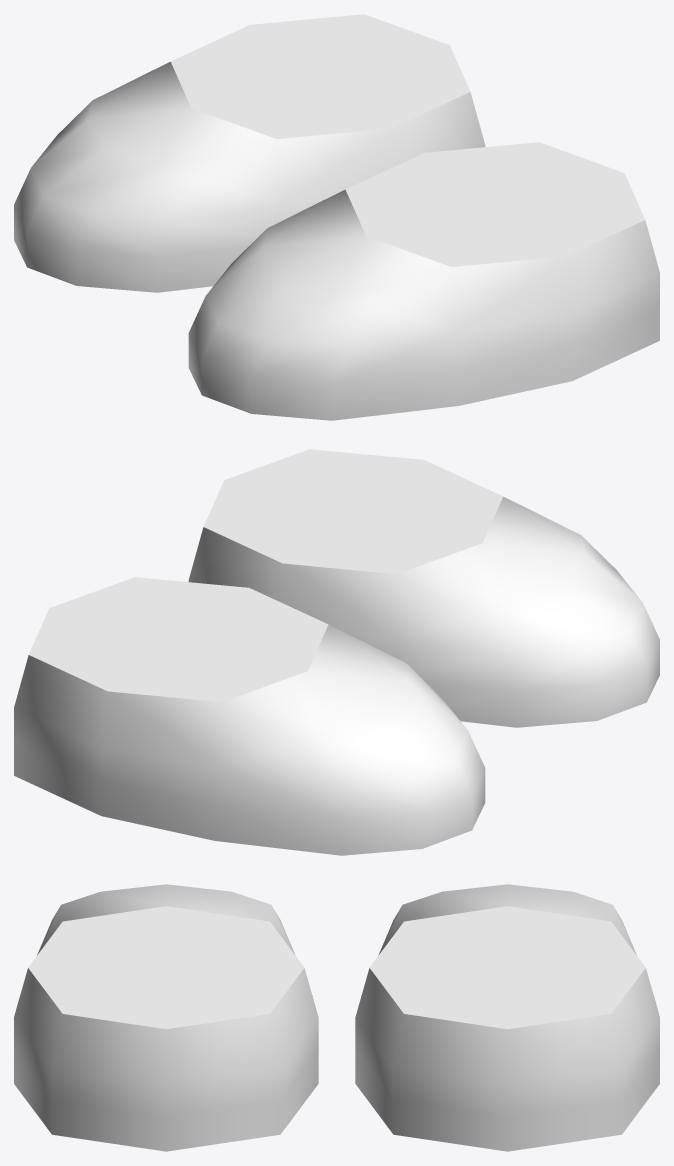
Rendered from loafers.fbx.
3 renders of one model, top to bottom at view 1: azimuth 30°, elevation 25°; view 2: azimuth 150°, elevation 25°; view 3: azimuth 270°, elevation 25°, orthographic. The views are drawn at different scales.
Visible parts, largest first — view 1: Cube.000; view 2: Cube.000; view 3: Cube.000.
Part boxes in pixels (x1,y1,x2,y2): Cube.000: (14, 14, 659, 420); Cube.000: (14, 449, 659, 855); Cube.000: (14, 884, 659, 1151).
Size of the model in its own units: 88.28 by 23.11 by 116.
